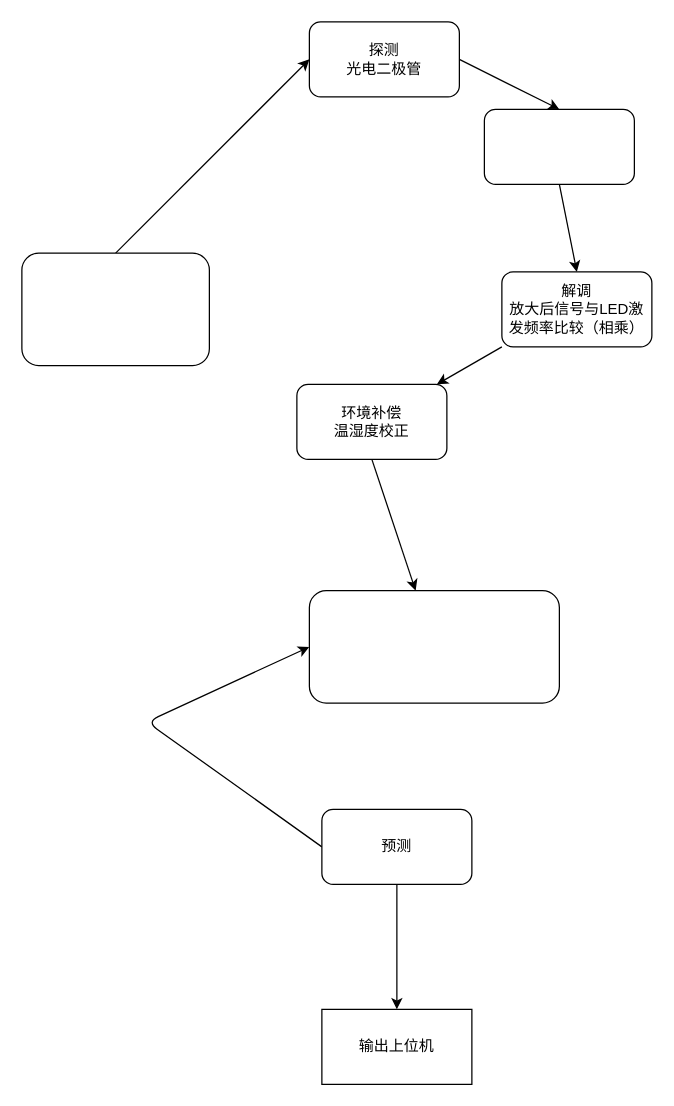
The diagram is 674 pixels wide and 1106 high, and some of its shapes have lost their labels. Each missing label, with the box of its shape:
放大: (483, 108, 634, 184)
计算 血糖浓度 = a * V_adc + b * T + c: (308, 589, 559, 703)
调制 LED激发: (21, 252, 209, 366)
